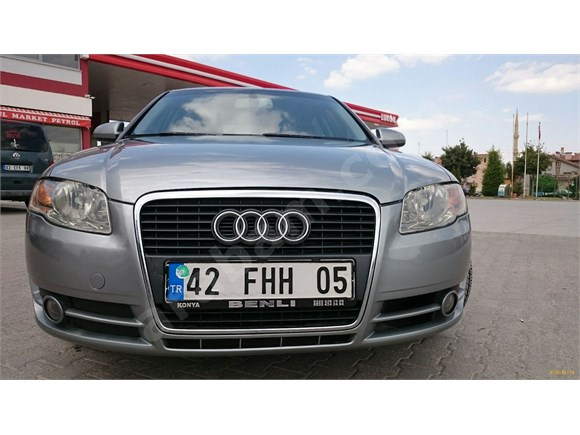audi: (208, 206, 313, 243)
